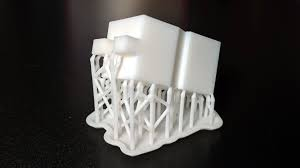Fail: (75, 4, 233, 159)
